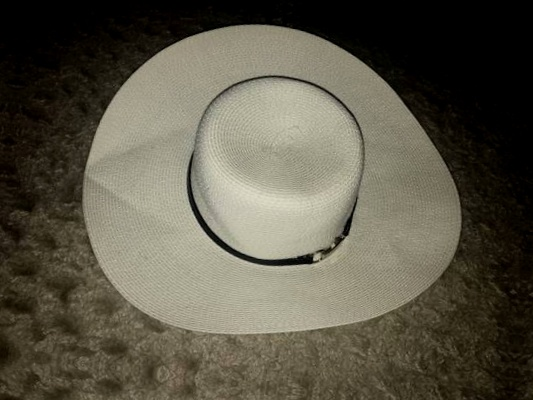Hat: (53, 0, 504, 385), (99, 0, 533, 36), (0, 388, 451, 400)
